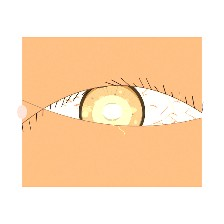corneal_ulcer: (80, 88, 144, 139)
